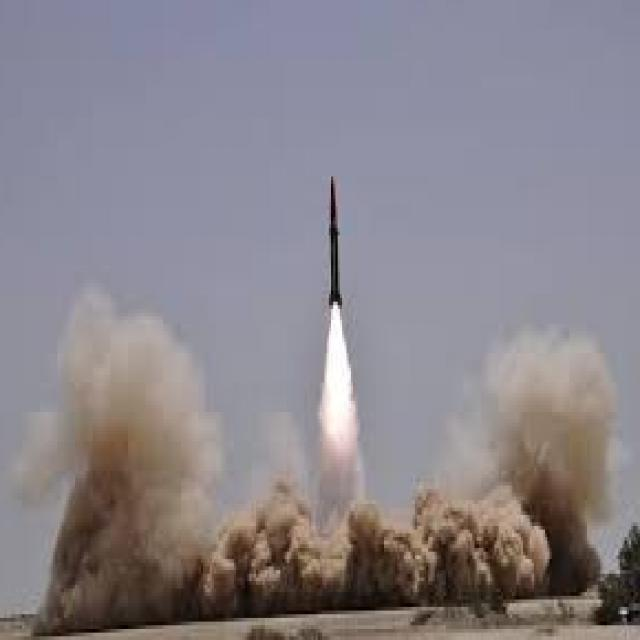missile: (322, 169, 346, 307)
